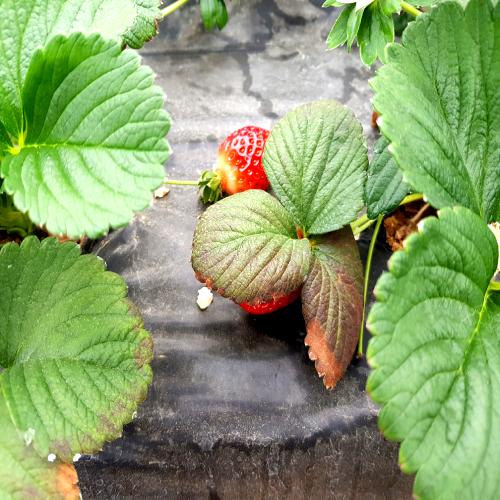ripe: (216, 110, 282, 201)
